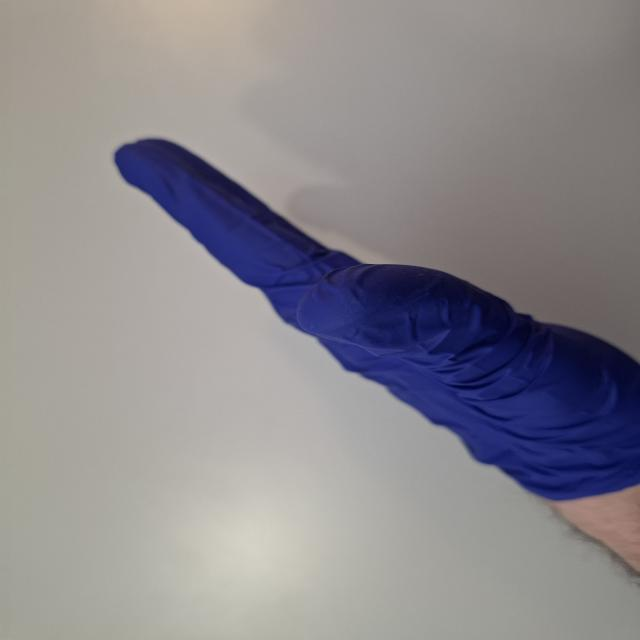glove_on: (108, 131, 640, 508)
